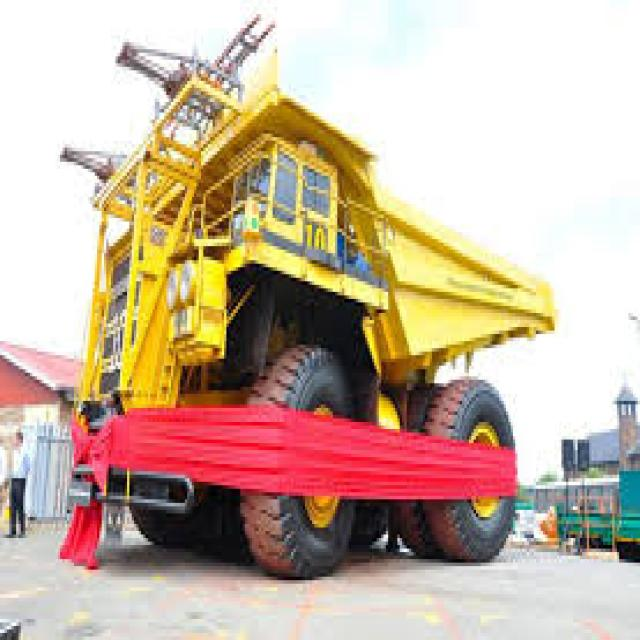dump_truck: (72, 78, 550, 602)
